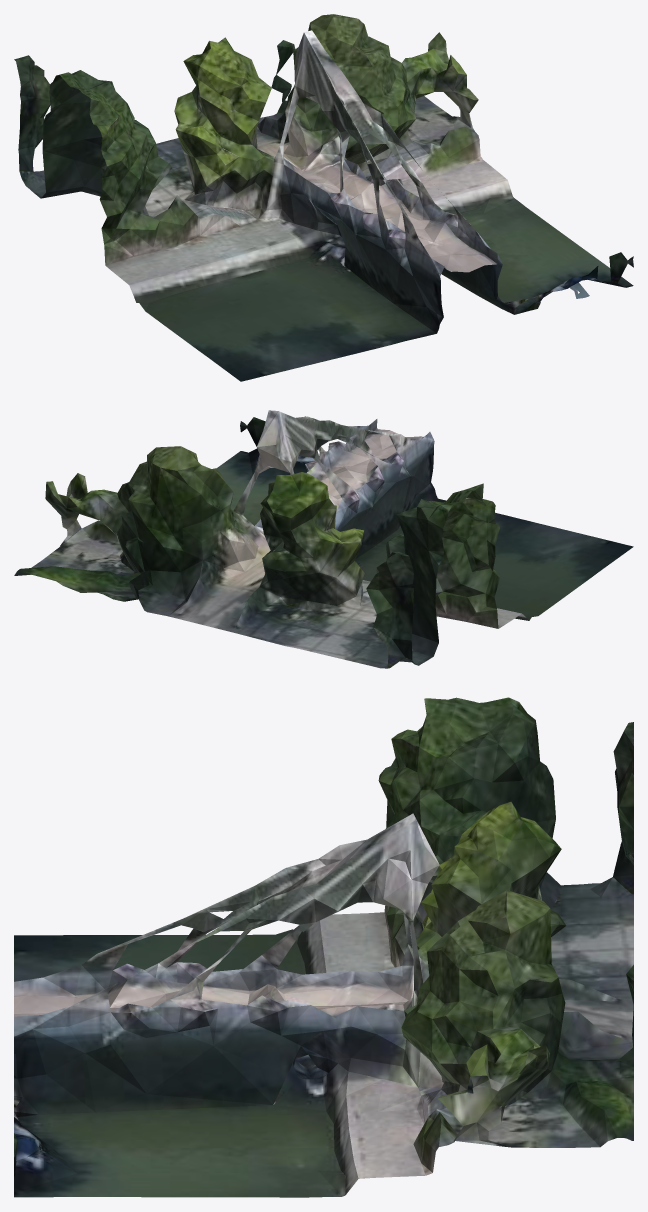
File: helsinki-5-3.glb
The picture shows the model from 3 angles, top to bottom: view 1: azimuth 30°, elevation 25°; view 2: azimuth 150°, elevation 25°; view 3: azimuth 270°, elevation 25°; orthographic projection. The views are drawn at different scales.
Size of the model in its own units: 31.75 by 14.8 by 31.75.
1 material, 1 textured.
